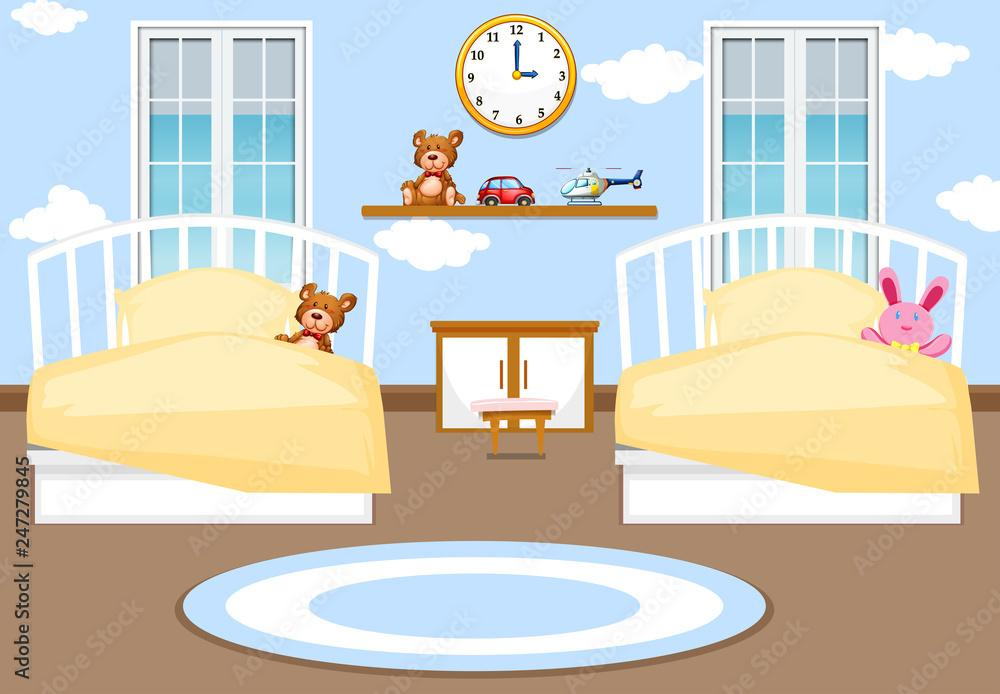bed: (615, 258, 977, 503)
